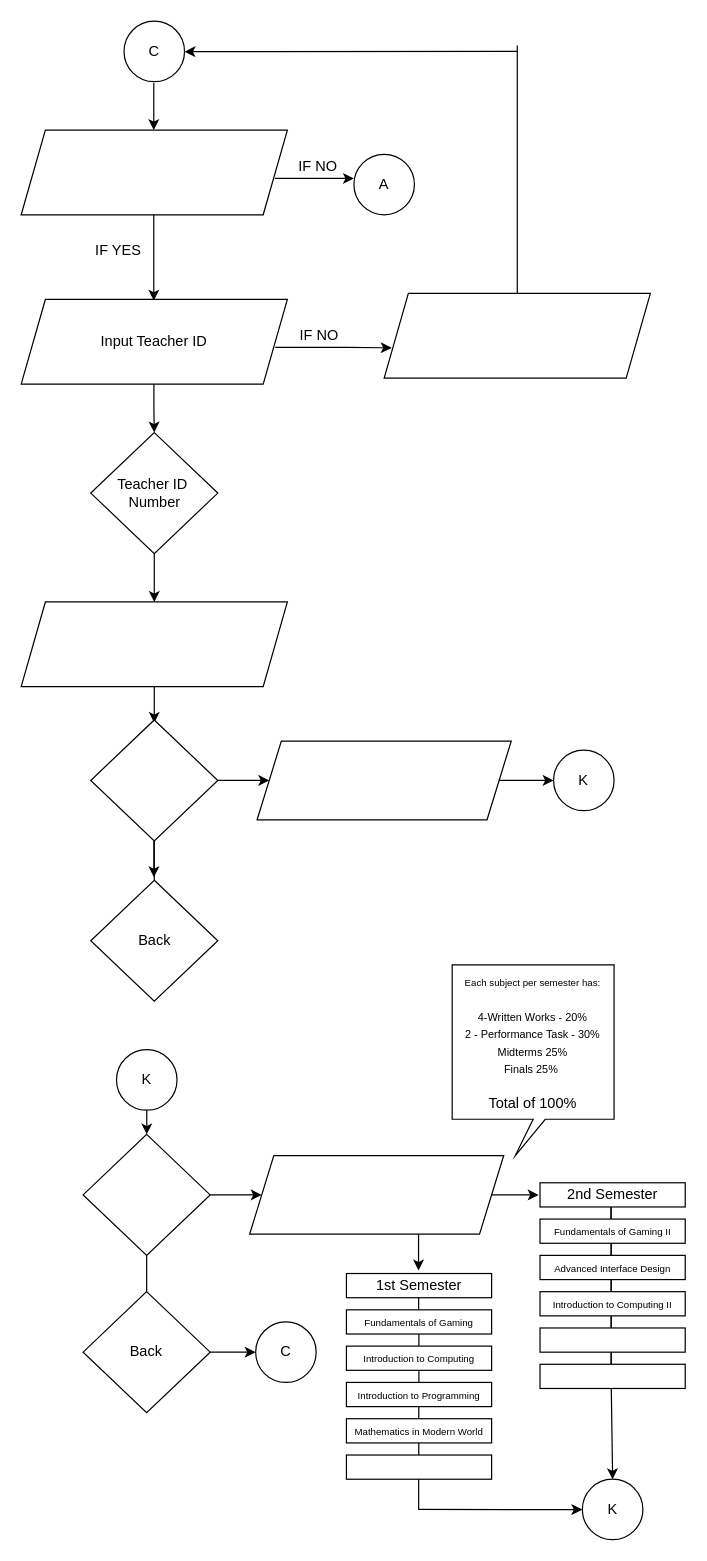
This 707x1561 diagram has some shape labels left out. The shapes that lost their labels are listed below. From the top down, each one's centre as x and y in pixels, then its label:
pixel 153 172: "Do you want to Login?" Y / N
pixel 516 335: Output: Wrong password
pixel 153 644: Choose Option
pixel 154 780: Select Student
pixel 383 780: Show student list
pixel 146 1194: Add Grades
pixel 376 1194: Choose Semester
pixel 612 1339: Introduction to Programming II
pixel 612 1375: Physical Education II
pixel 418 1466: Physical Education I
